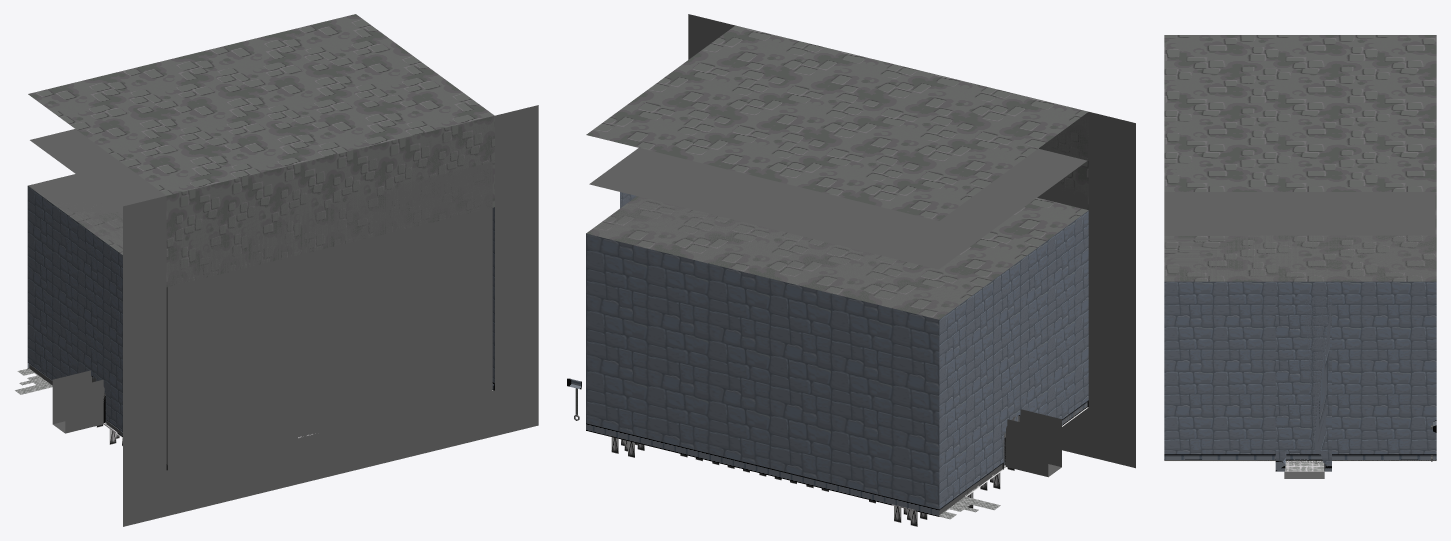
File: gon_07_bake_split.dae
3 views of the same model, side by side, from view 1: azimuth 30°, elevation 25°; view 2: azimuth 150°, elevation 25°; view 3: azimuth 270°, elevation 25° (orthographic). The views are drawn at different scales.
Visible parts, largest first — view 1: ten, a_kabemae, kuro7, a_togeue01, polySurface209_q00028_part0, polySurface409_q00012, a_togeshita, polySurface753_q00026_part0; view 2: ten, polySurface212_q00029_part0, a_togeue01, polySurface209_q00028_part0, kuro7, polySurface409_q00012, polySurface212_q00029_part1; view 3: ten, polySurface754_q00030_part0, a_togeue01, polySurface161_q00015_part0, polySurface161_q00007_part0, polySurface754_q00030_part1, polySurface754_q00017_part0, polySurface753_q00027, polySurface757_q00011, polySurface208_q00032.
Boxes of the visible parts, box(x1,y1,x2,y2) form: ten: box(28, 14, 494, 286); a_kabemae: box(167, 208, 492, 469); kuro7: box(123, 105, 538, 526); a_togeue01: box(30, 129, 492, 286); polySurface209_q00028_part0: box(27, 186, 122, 431); polySurface409_q00012: box(52, 370, 104, 433); a_togeshita: box(106, 342, 319, 437); polySurface753_q00026_part0: box(81, 397, 103, 429); ten: box(586, 25, 1088, 319); polySurface212_q00029_part0: box(586, 233, 939, 509); a_togeue01: box(589, 148, 1087, 318); polySurface209_q00028_part0: box(939, 210, 1088, 508); kuro7: box(688, 14, 1135, 468); polySurface409_q00012: box(1006, 409, 1061, 476); polySurface212_q00029_part1: box(586, 423, 939, 516); ten: box(1164, 35, 1436, 281); polySurface754_q00030_part0: box(1164, 281, 1436, 454); a_togeue01: box(1164, 192, 1435, 280); polySurface161_q00015_part0: box(1275, 286, 1331, 464); polySurface161_q00007_part0: box(1276, 297, 1331, 464); polySurface754_q00030_part1: box(1164, 454, 1436, 460); polySurface754_q00017_part0: box(1275, 281, 1331, 454); polySurface753_q00027: box(1285, 461, 1324, 471); polySurface757_q00011: box(1284, 460, 1324, 478); polySurface208_q00032: box(1164, 460, 1436, 461).
Bounding box in the file's own units: 95 × 70 × 55.
